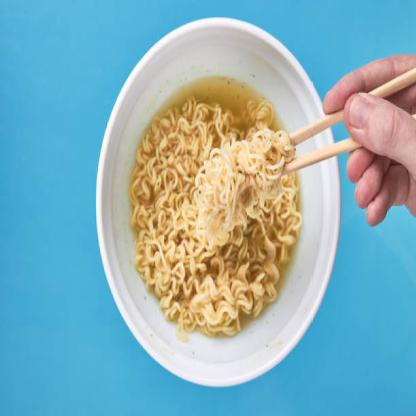Noodles: (129, 86, 303, 344)
